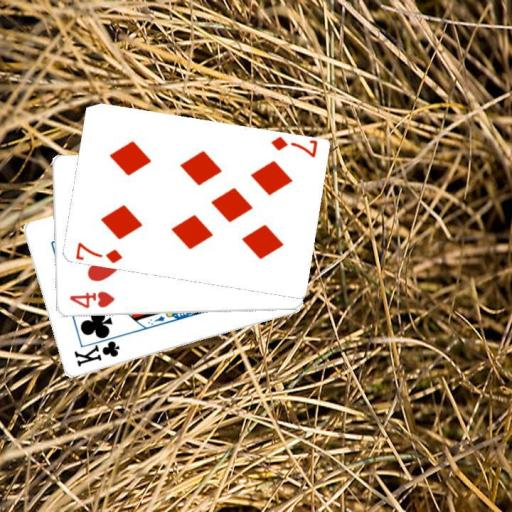4H: (66, 288, 115, 310)
7D: (73, 240, 124, 265), (267, 135, 318, 160)
KC: (71, 332, 123, 369)
